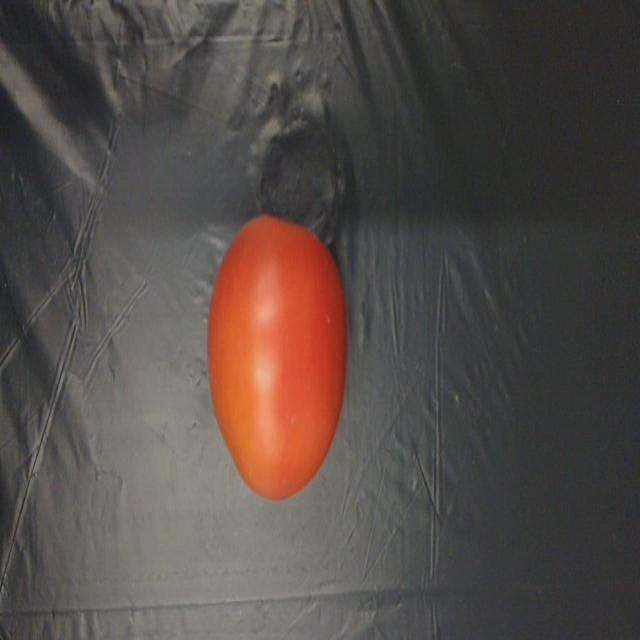sari: (198, 210, 353, 512)
